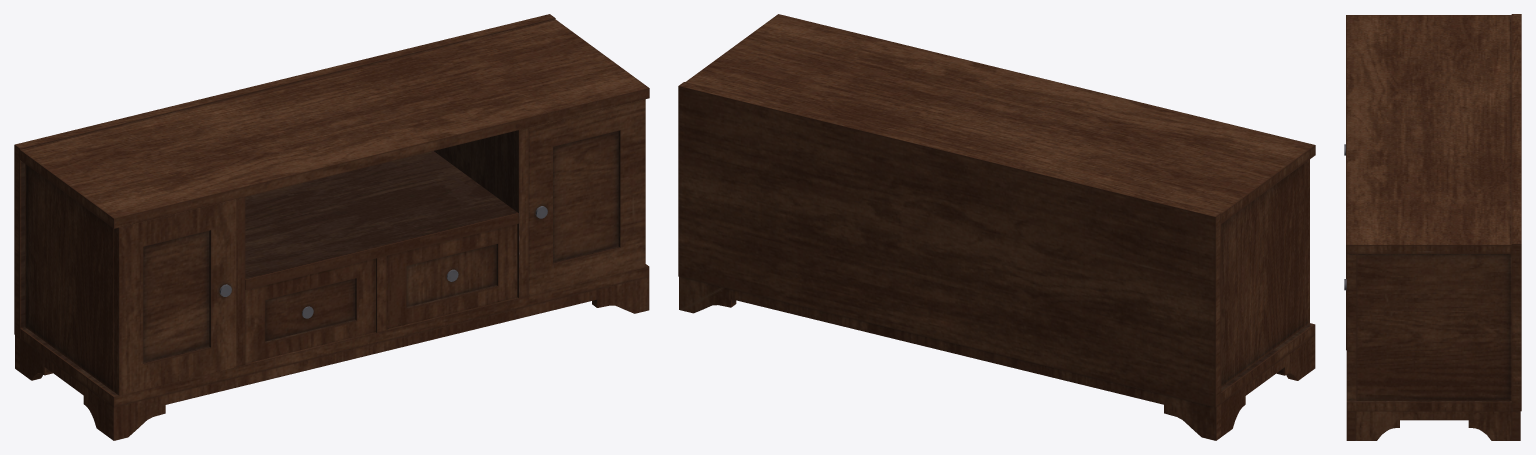
The model's file is Media_Center.fbx.
3 views of the same model, side by side, from view 1: azimuth 30°, elevation 25°; view 2: azimuth 150°, elevation 25°; view 3: azimuth 270°, elevation 25° (orthographic). The views are drawn at different scales.
Visible parts, largest first — view 1: Mediacenter; view 2: Mediacenter; view 3: Mediacenter.
Part boxes in pixels (x1,y1,x2,y2): Mediacenter: [14, 14, 649, 440]; Mediacenter: [678, 14, 1315, 440]; Mediacenter: [1344, 14, 1521, 440].
Size of the model in its own units: 165 by 65.86 by 53.74.
